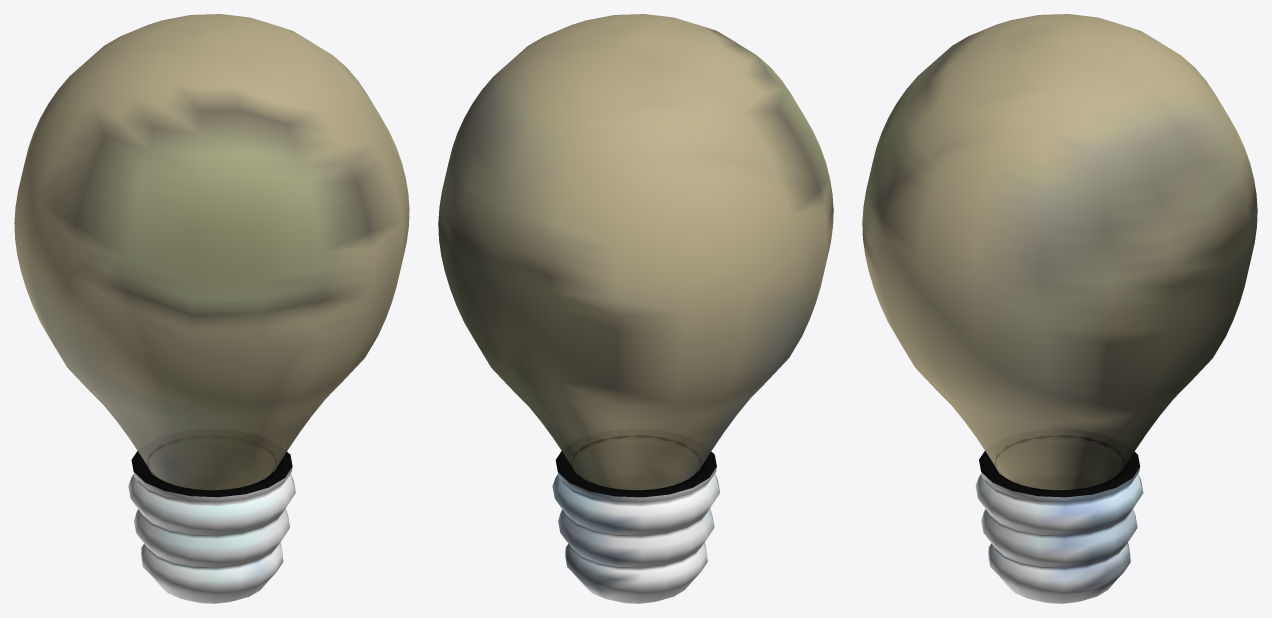
Rendered from Bulb.FBX.
3 views of the same model, side by side, from view 1: azimuth 30°, elevation 25°; view 2: azimuth 150°, elevation 25°; view 3: azimuth 270°, elevation 25° (orthographic).
Visible parts, largest first — view 1: bulb:bulb, bulb:flower; view 2: bulb:bulb, bulb:flower; view 3: bulb:bulb, bulb:flower.
Part boxes in pixels (x1,y1,x2,y2): bulb:bulb: (14,14,409,490); bulb:flower: (128,435,295,603); bulb:bulb: (438,14,833,490); bulb:flower: (552,435,720,603); bulb:bulb: (862,14,1257,490); bulb:flower: (975,435,1143,603).
Size of the model in its own units: 45.84 by 71.28 by 45.92.
